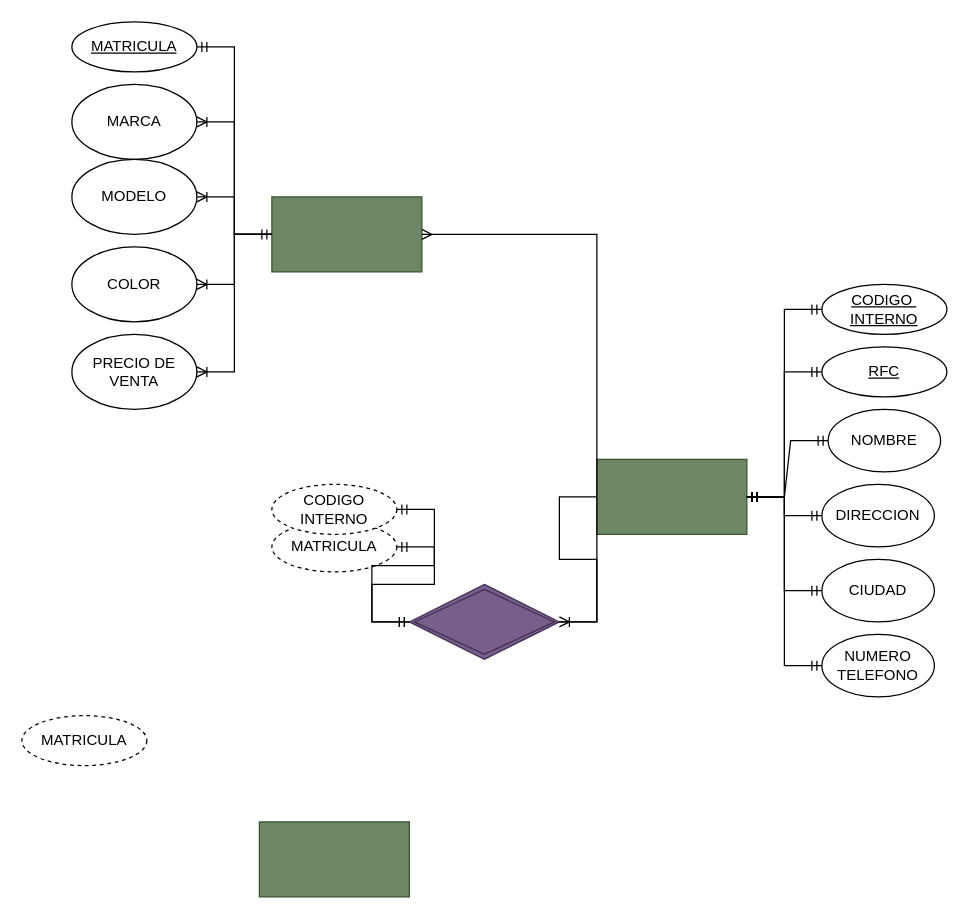
The diagram is 969 pixels wide and 919 high, and some of its shapes have lost their labels. Each missing label, with the box of its shape:
CLIENTES: (596, 458, 747, 534)
COCHES: (271, 196, 422, 272)
COMPRA: (408, 583, 559, 659)
REVISION: (258, 821, 409, 897)
